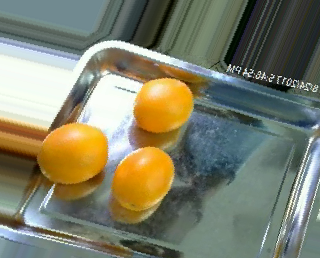Orange: (36, 122, 109, 184), (111, 145, 175, 209), (131, 76, 192, 133)
